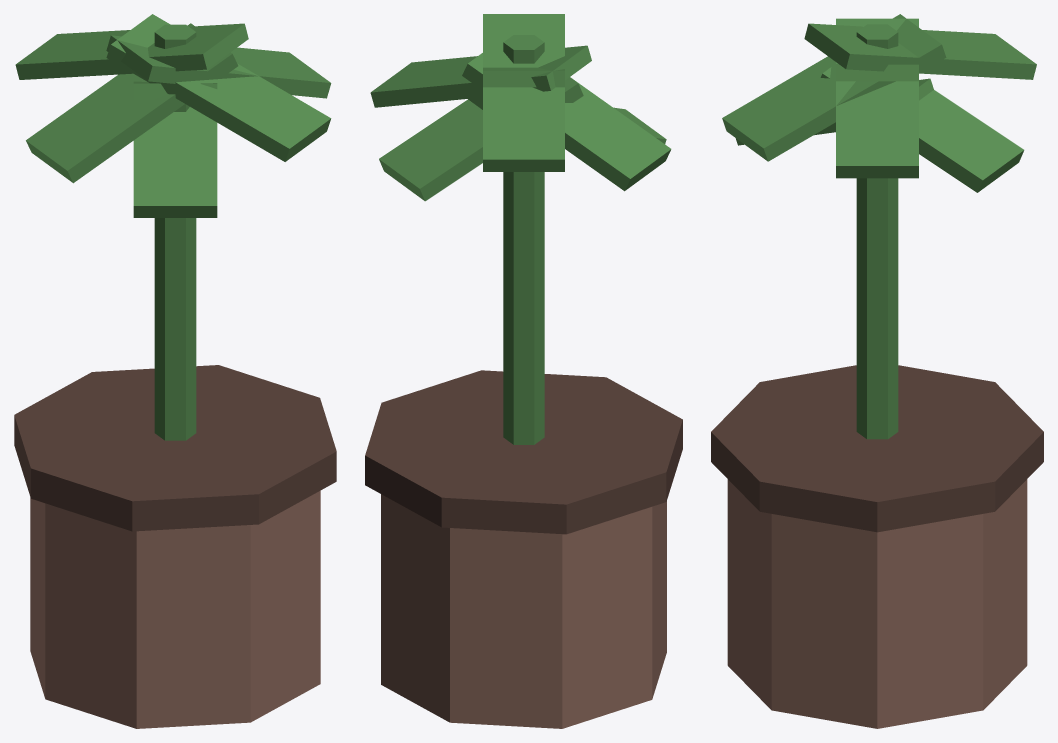
The model's file is welt_pflanze.glb.
The picture shows the model from 3 angles, left to right: view 1: azimuth 30°, elevation 25°; view 2: azimuth 150°, elevation 25°; view 3: azimuth 270°, elevation 25°; orthographic projection.
Visible parts, largest first — view 1: topf, topf_rand, stamm, blatt_5, blatt_4, blatt_3, blatt_2, blatt_0, blatt_1; view 2: topf, topf_rand, stamm, blatt_2, blatt_3, blatt_1, blatt_0, blatt_5; view 3: topf, topf_rand, stamm, blatt_5, blatt_0, blatt_2, blatt_1, blatt_3.
Boxes of the visible parts, x1,y1,x2,y2 form: topf: (30,490,320,728); topf_rand: (14,365,336,531); stamm: (154,24,196,440); blatt_5: (106,14,331,161); blatt_4: (133,107,217,217); blatt_3: (26,23,238,183); blatt_2: (15,23,248,79); blatt_0: (106,35,331,98); blatt_1: (133,81,217,100); topf: (381,494,666,728); topf_rand: (365,370,682,534); stamm: (503,35,544,444); blatt_2: (483,14,564,171); blatt_3: (462,53,671,191); blatt_1: (379,77,583,201); blatt_0: (370,45,591,107); blatt_5: (483,67,564,87); topf: (727,479,1027,728); topf_rand: (711,365,1043,532); stamm: (856,24,898,439); blatt_5: (722,14,946,161); blatt_0: (836,18,918,178); blatt_2: (804,23,1036,79); blatt_1: (820,67,1024,192); blatt_3: (836,64,918,81).
Bounding box in the file's own units: 0.4 × 0.8468 × 0.4.
